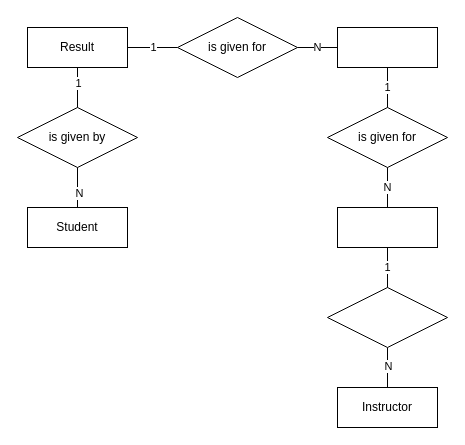
Some shapes in this 465 by 445 pixel diagram are drawn without their labels. The shapes that lost their labels are listed below. From the top down, each one's centre as x and y in pixels, then its label:
(x=387, y=47): Test
(x=387, y=227): Course
(x=387, y=317): is taught by
